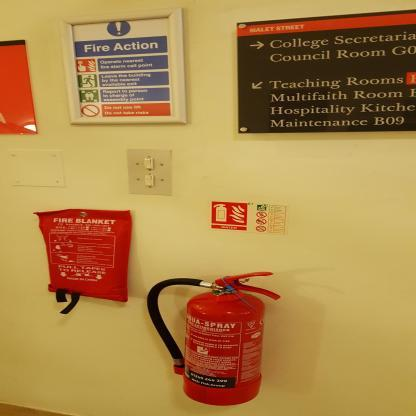Fire Extinguisher: (132, 248, 282, 408)
